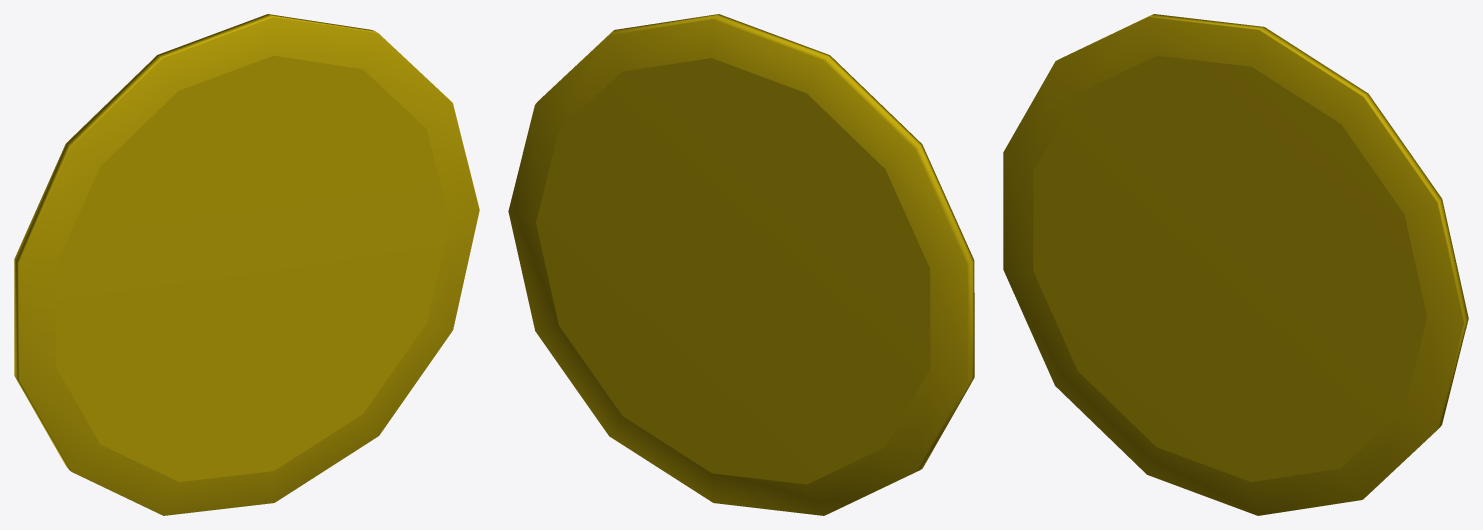
Rendered from goldcoin.fbx.
The picture shows the model from 3 angles, left to right: view 1: azimuth 30°, elevation 25°; view 2: azimuth 150°, elevation 25°; view 3: azimuth 330°, elevation 25°; orthographic projection.
Visible parts, largest first — view 1: goldcoin; view 2: goldcoin; view 3: goldcoin.
Part boxes in pixels (x1,y1,x2,y2): goldcoin: [14, 14, 479, 515]; goldcoin: [508, 14, 974, 515]; goldcoin: [1003, 14, 1468, 515].
Bounding box in the file's own units: 1.97 × 1.99 × 0.1219.
